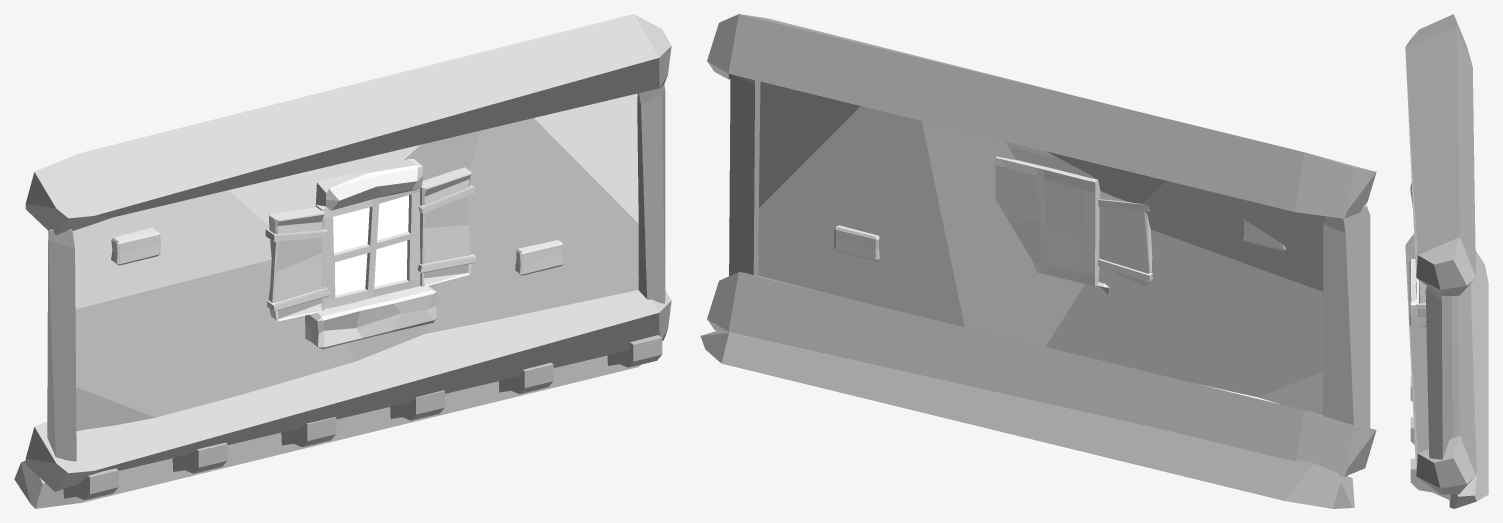
File: second_story_window.glb
3 renders of one model, left to right at view 1: azimuth 30°, elevation 25°; view 2: azimuth 150°, elevation 25°; view 3: azimuth 270°, elevation 25°, orthographic. The views are drawn at different scales.
Visible parts, largest first — view 1: second_story_window; view 2: second_story_window; view 3: second_story_window.
Boxes of the visible parts, x1,y1,x2,y2 form: second_story_window: (14,14,671,508); second_story_window: (700,14,1376,508); second_story_window: (1405,14,1488,508).
Size of the model in its own units: 12.31 by 6.47 by 1.81.
